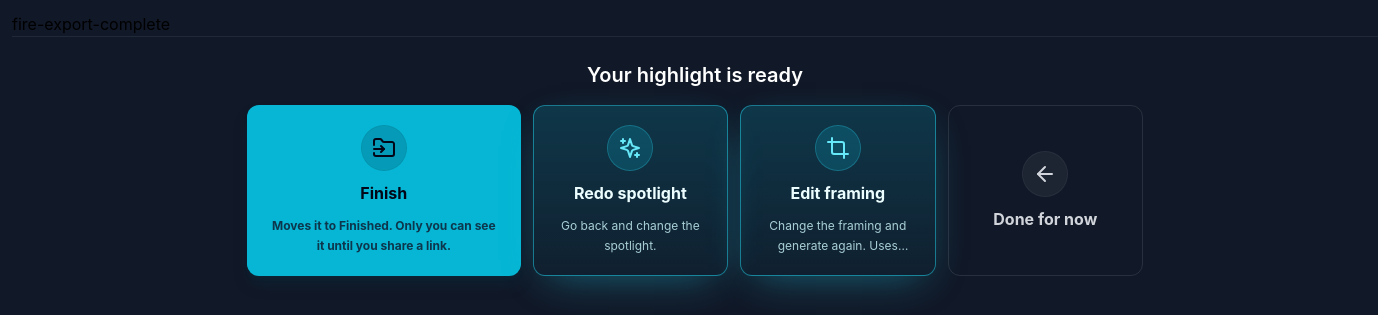
Test: T9110 Overlay post-export completion preview + publish-exit action bar › "Publish Now" publishes, toasts Published, lands on the reel (alreadyPublished), and closes — no re-export
Click the button "Finish".
click(384, 190)  # box [247, 105, 521, 276]
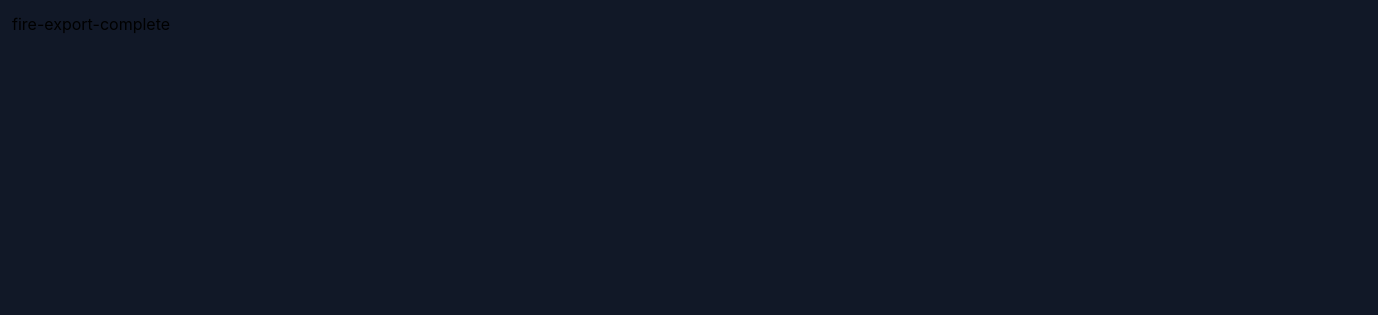
Expected: the element with test id "export-complete-preview" is gone
